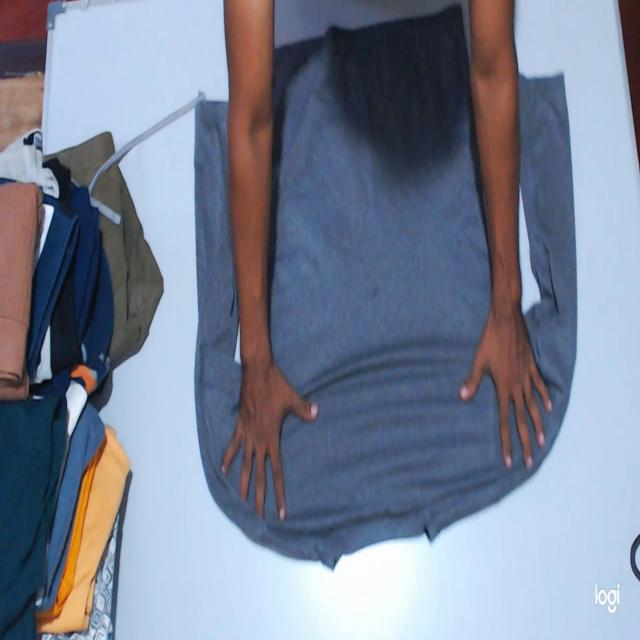new-garment: (195, 7, 577, 565)
